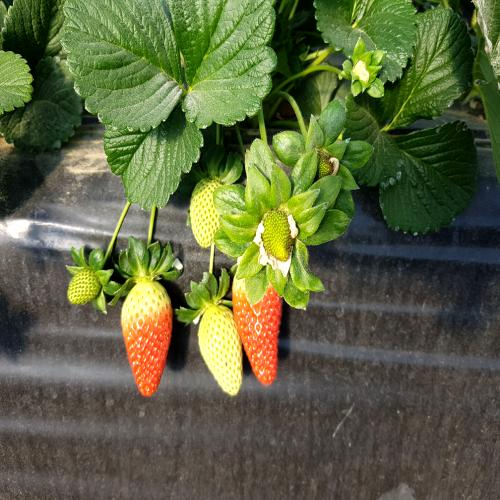partially-ripe: (123, 276, 174, 403)
ripe: (232, 253, 296, 386)
unripe: (194, 302, 248, 399), (190, 172, 224, 242), (256, 212, 294, 268), (66, 257, 102, 313)
